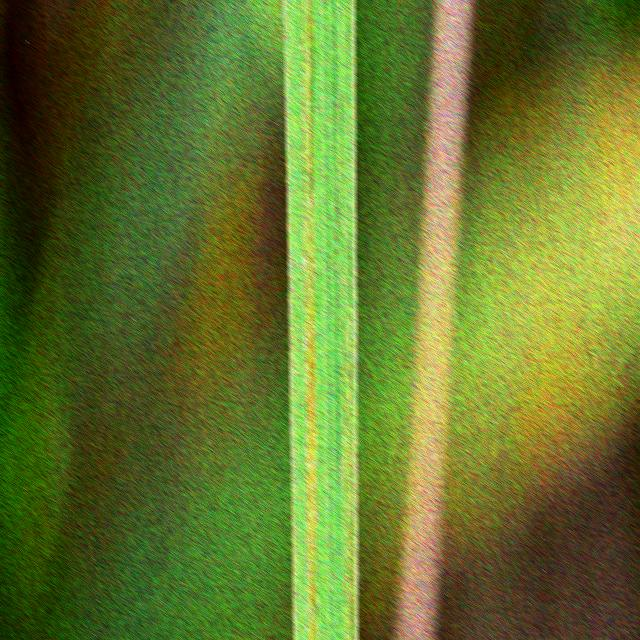BLS: (299, 0, 319, 640), (288, 234, 297, 635), (347, 227, 355, 640), (342, 93, 348, 640), (354, 0, 356, 77)
